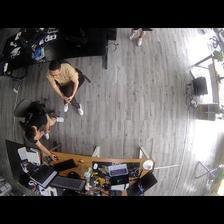normal: (47, 61, 91, 118), (27, 111, 66, 144)
